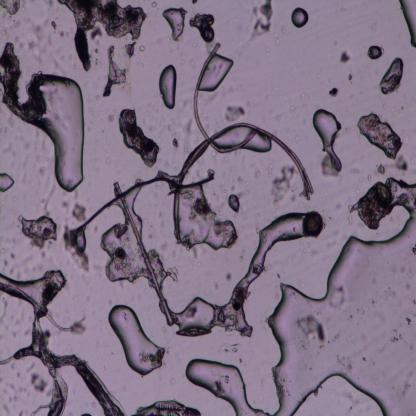Air bubble: (268, 215, 415, 416), (175, 210, 305, 336), (38, 74, 87, 192), (186, 358, 272, 416), (107, 303, 166, 377), (182, 186, 240, 249), (311, 102, 345, 172), (201, 53, 237, 96), (156, 61, 182, 110), (380, 56, 404, 96), (396, 0, 416, 46), (160, 8, 186, 42), (248, 132, 274, 156), (290, 7, 310, 31), (0, 170, 14, 193), (227, 195, 241, 215), (367, 44, 383, 61)
Background material: (113, 180, 176, 322), (57, 0, 148, 71), (348, 176, 397, 230), (120, 108, 160, 170), (358, 112, 405, 158), (100, 43, 132, 100), (18, 213, 57, 251), (132, 399, 207, 416), (248, 0, 275, 42), (63, 225, 88, 270), (270, 162, 294, 206), (296, 316, 330, 345), (212, 221, 236, 247), (188, 197, 214, 218), (65, 312, 85, 336), (224, 101, 246, 122), (328, 285, 347, 309), (42, 184, 57, 214), (320, 154, 340, 176), (26, 41, 45, 63), (30, 370, 47, 392), (70, 202, 88, 222), (334, 356, 354, 374), (188, 13, 206, 32), (400, 373, 412, 401), (344, 390, 360, 410), (0, 0, 21, 15), (388, 326, 405, 343), (217, 341, 239, 353), (114, 245, 128, 262), (32, 24, 45, 41), (125, 41, 137, 59), (297, 336, 311, 351), (395, 158, 408, 172), (53, 61, 67, 74), (113, 224, 128, 236), (185, 118, 195, 135), (260, 314, 268, 332), (106, 110, 118, 122), (89, 30, 102, 41), (157, 215, 167, 229), (377, 162, 387, 176), (36, 161, 45, 176), (181, 187, 192, 199), (26, 362, 38, 373), (340, 50, 351, 62), (21, 139, 31, 152), (31, 262, 43, 272), (1, 142, 13, 152), (318, 340, 331, 349), (0, 310, 7, 326), (61, 199, 72, 209), (158, 240, 169, 250), (175, 44, 186, 54), (331, 332, 340, 344), (2, 404, 10, 416), (164, 123, 176, 131), (191, 247, 198, 260), (7, 114, 14, 127), (210, 280, 220, 289), (12, 20, 22, 29), (18, 408, 29, 416), (92, 57, 100, 68), (328, 88, 339, 96), (226, 270, 233, 282), (274, 36, 281, 48), (161, 327, 170, 336), (241, 188, 251, 196), (235, 174, 243, 184), (23, 328, 32, 336), (15, 269, 23, 278), (240, 248, 245, 262), (73, 190, 79, 201), (6, 381, 14, 389), (164, 348, 172, 356), (138, 44, 146, 52), (9, 395, 18, 402), (44, 327, 51, 336), (45, 0, 54, 7), (81, 411, 93, 416), (255, 169, 261, 179), (301, 100, 307, 110), (19, 386, 27, 393), (172, 140, 179, 148), (2, 299, 8, 308), (51, 21, 57, 30), (348, 214, 353, 224), (7, 269, 14, 276), (35, 153, 41, 161), (42, 140, 46, 152), (60, 31, 66, 39), (406, 318, 412, 326), (368, 173, 374, 181), (339, 5, 347, 11), (210, 150, 216, 158), (19, 41, 25, 49), (11, 361, 16, 370), (40, 250, 46, 257), (14, 35, 20, 42), (182, 146, 188, 153), (10, 251, 15, 259), (281, 27, 286, 35), (348, 73, 353, 81), (2, 389, 8, 395), (413, 242, 416, 254), (332, 40, 338, 46), (4, 259, 8, 267), (388, 285, 392, 293), (191, 0, 199, 4), (238, 357, 244, 362), (0, 248, 6, 253), (151, 2, 157, 7), (347, 314, 352, 320), (301, 92, 306, 98), (276, 272, 280, 279), (95, 226, 99, 233), (140, 61, 144, 68), (184, 100, 188, 107), (405, 283, 410, 288), (94, 49, 99, 54), (145, 111, 150, 116), (18, 371, 22, 377), (370, 299, 374, 305), (192, 42, 198, 46), (238, 24, 242, 30), (203, 100, 207, 106), (210, 94, 214, 100), (412, 299, 416, 305), (102, 126, 105, 134), (173, 132, 177, 138), (46, 156, 50, 161), (350, 341, 354, 346), (196, 262, 201, 266), (234, 18, 238, 23), (362, 356, 366, 361), (291, 106, 295, 111), (150, 234, 153, 240), (356, 308, 360, 312), (238, 86, 242, 90), (94, 147, 96, 154), (410, 346, 413, 350)
Cellulose filter fibre: (0, 346, 131, 416), (5, 283, 70, 416), (0, 39, 51, 128)
Diatom: (302, 209, 324, 240), (152, 395, 183, 416), (175, 325, 212, 336), (202, 25, 215, 43), (206, 12, 216, 26)
Microfibre: (175, 121, 313, 244), (193, 41, 257, 154)
